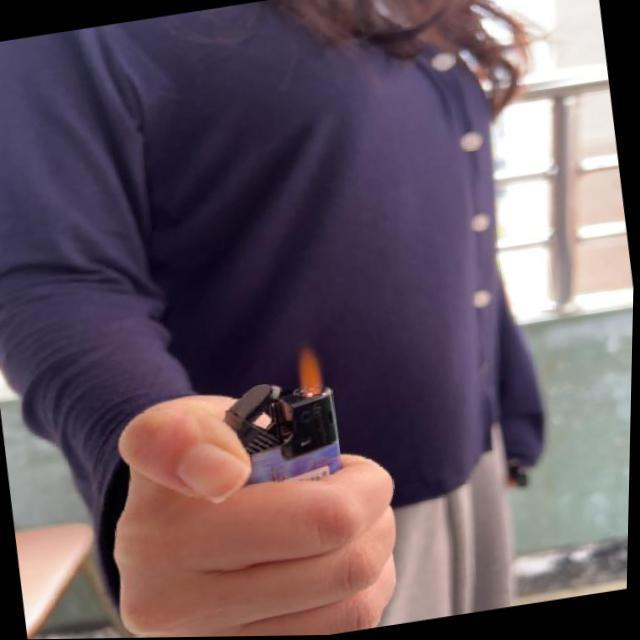fire: (293, 344, 327, 398)
